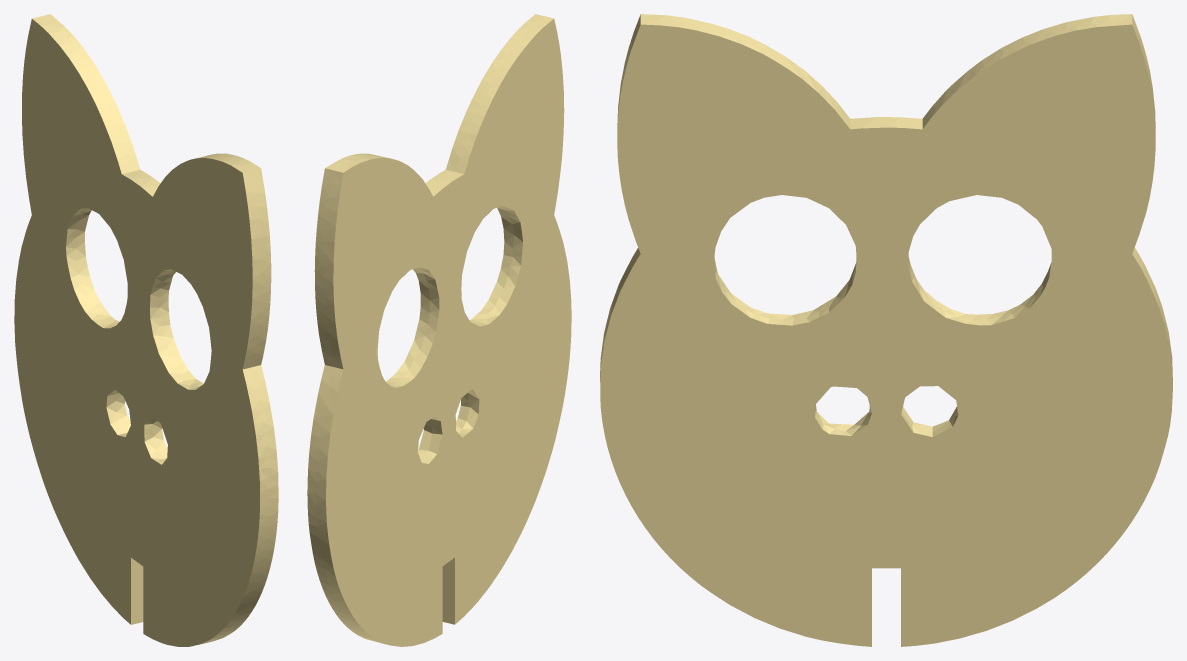
The model's file is input.gltf.
3 views of the same model, side by side, from view 1: azimuth 30°, elevation 25°; view 2: azimuth 150°, elevation 25°; view 3: azimuth 270°, elevation 25° (orthographic). The views are drawn at different scales.
Parts seen in each view (by area): view 1: Renderer Node; view 2: Renderer Node; view 3: Renderer Node.
Part boxes in pixels (<box>): Renderer Node: <box>14,14,278,646</box>; Renderer Node: <box>307,14,571,646</box>; Renderer Node: <box>600,14,1172,646</box>.
Size of the model in its own units: 0.0469 by 1.29 by 1.08.
